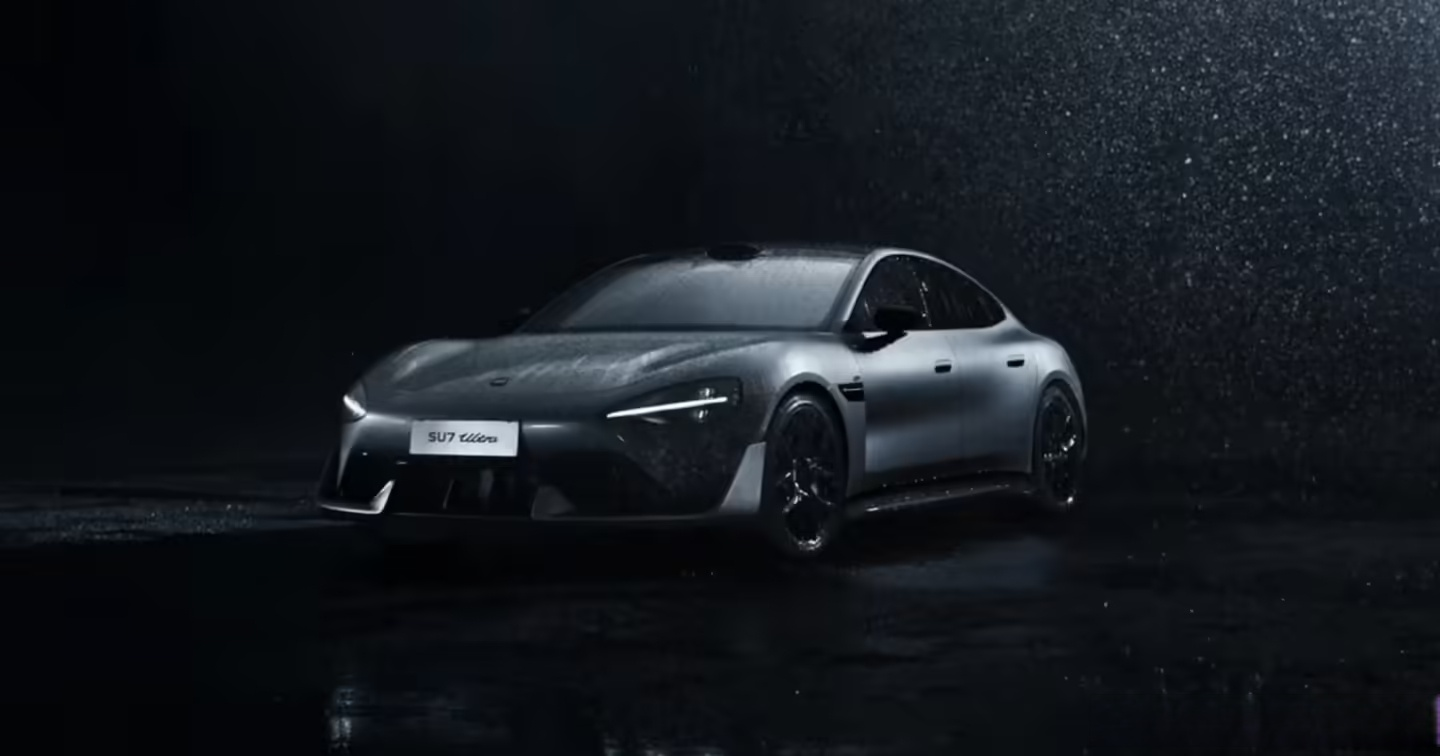su7: (350, 229, 1090, 538)
